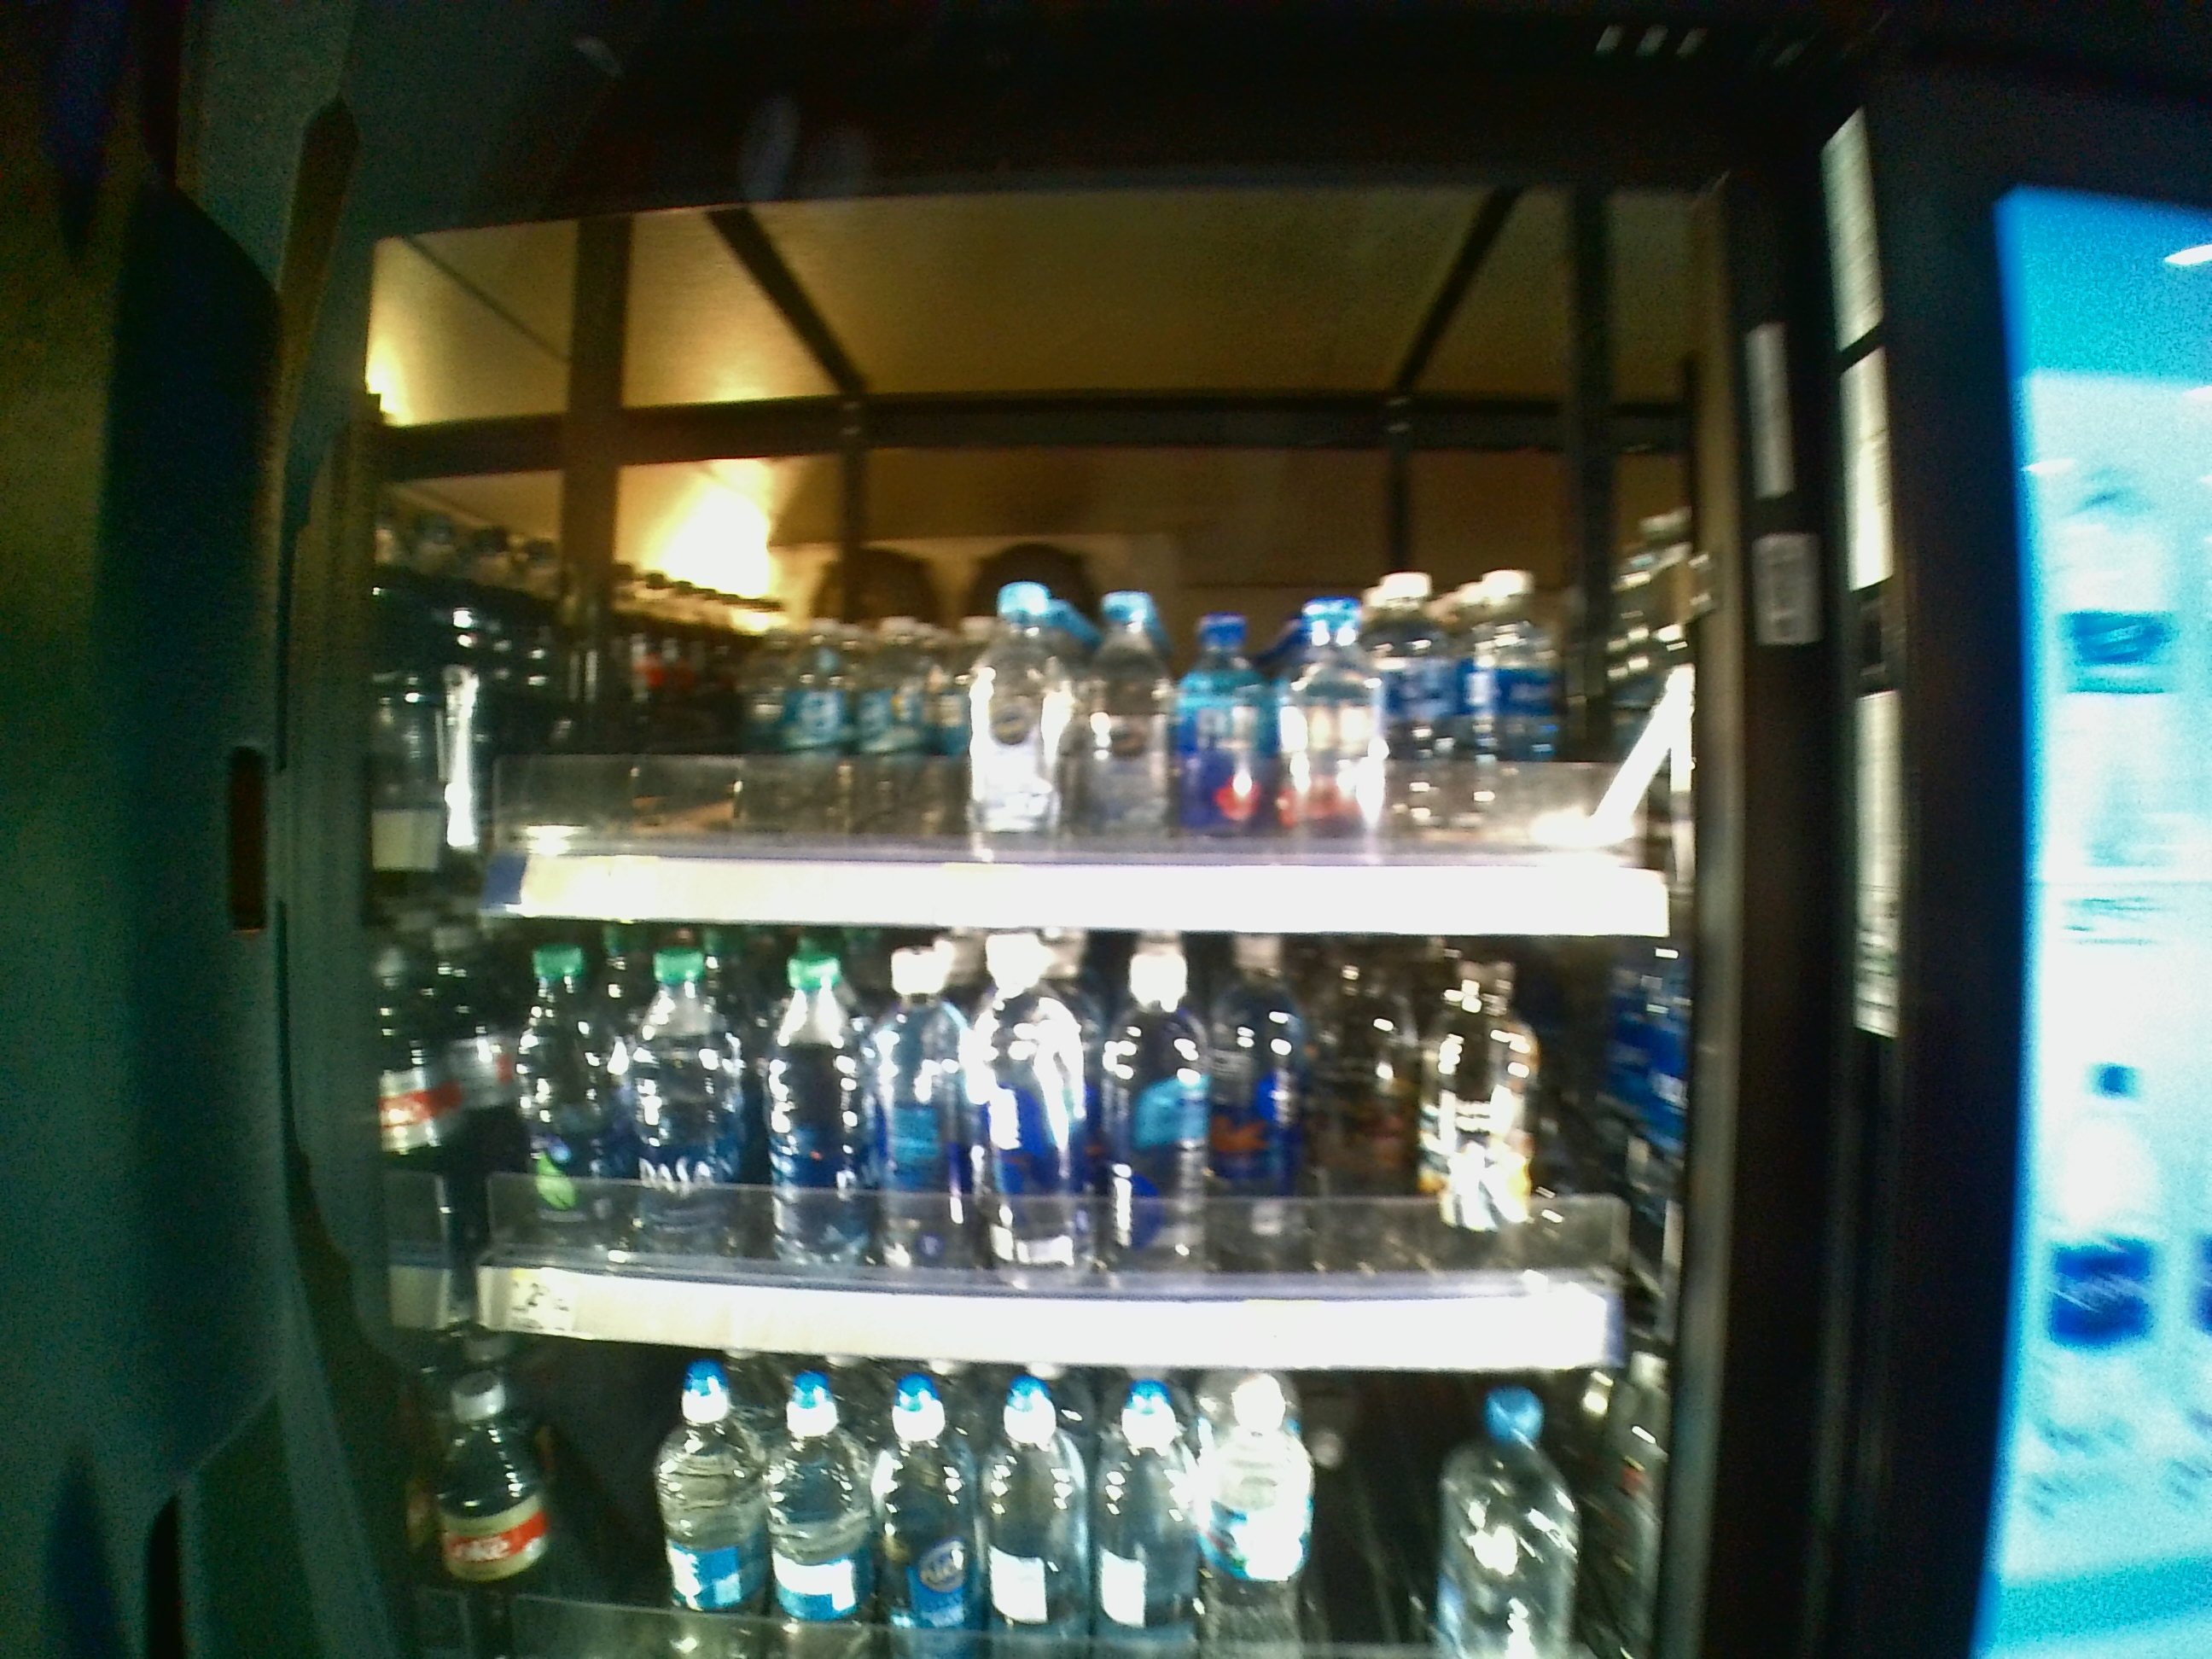Shelf: (427, 416, 1681, 934), (415, 950, 1681, 1373)
